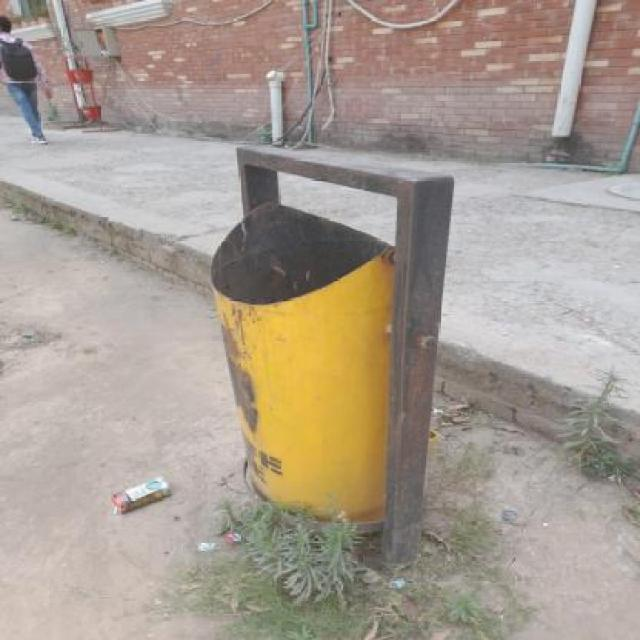garbage: (100, 454, 193, 525), (194, 532, 256, 558)
